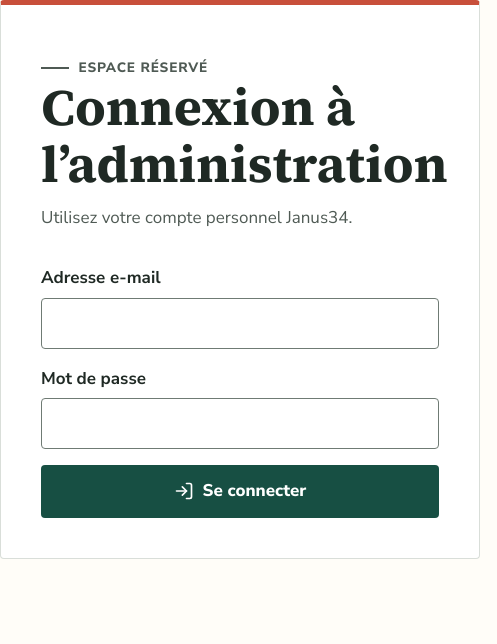
Test: keeps the e-mail address after a wrong password
The width and height of the screenshot is (497, 644).
In the field labelled "Adresse e-mail": (240, 323) top-left (41, 298), bottom-right (439, 348), type "admin@gemjanus34.local"
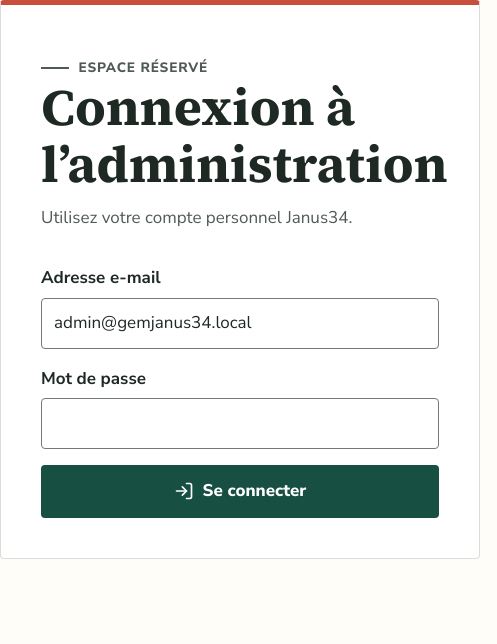
In the password field labelled "Mot de passe": (240, 424) top-left (41, 398), bottom-right (439, 449), type "mauvais"
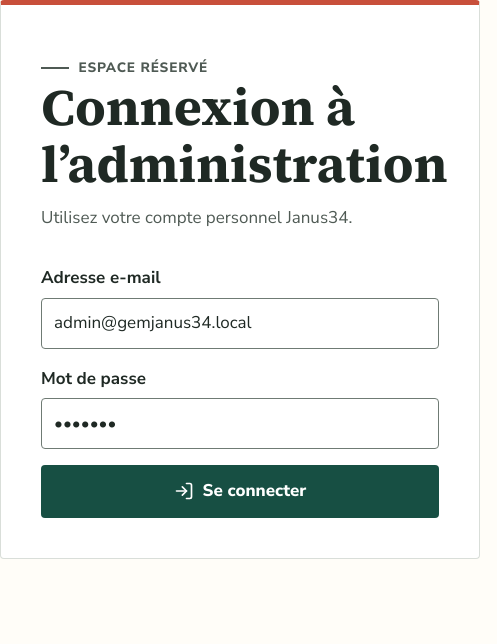
Submit the form, box top-left (41, 264), bottom-right (439, 518)
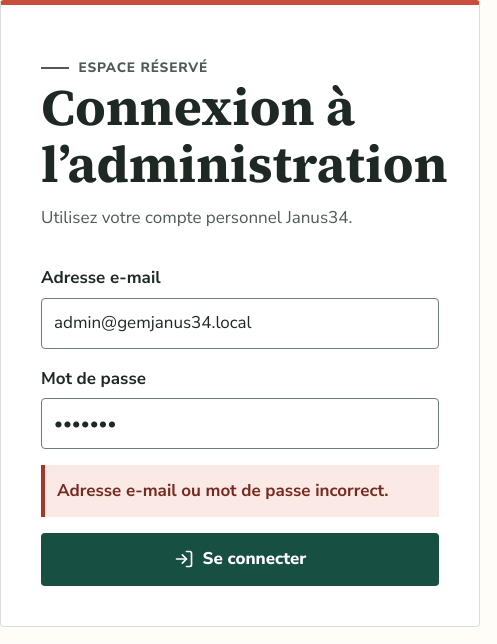
Check: the message shows "incorrect", box top-left (57, 479), bottom-right (389, 502)
